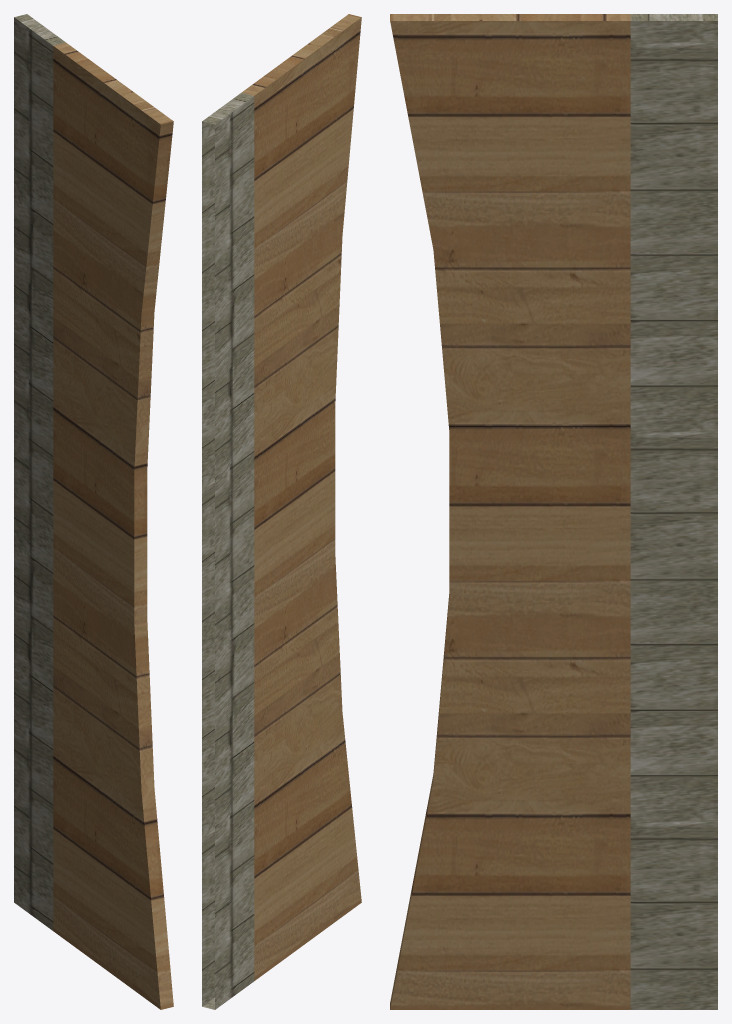
File: nt_concrete_fence_256_tall_LOD1.obj
3 renders of one model, left to right at view 1: azimuth 30°, elevation 25°; view 2: azimuth 150°, elevation 25°; view 3: azimuth 270°, elevation 25°, orthographic. The views are drawn at different scales.
Visible parts, largest first — view 1: nt_wood_fence, nt_2020_concrete_pattern_02; view 2: nt_wood_fence, nt_2020_concrete_pattern_02; view 3: nt_wood_fence, nt_2020_concrete_pattern_02.
Boxes of the visible parts, bbox=[...] form: nt_wood_fence: bbox=[53, 42, 173, 1009]; nt_2020_concrete_pattern_02: bbox=[14, 14, 65, 930]; nt_wood_fence: bbox=[241, 14, 361, 980]; nt_2020_concrete_pattern_02: bbox=[202, 93, 254, 1009]; nt_wood_fence: bbox=[390, 14, 630, 1009]; nt_2020_concrete_pattern_02: bbox=[630, 14, 717, 1009].
Size of the model in its own units: 10.02 by 651 by 196.
Materials: 2 (2 with a texture image).
